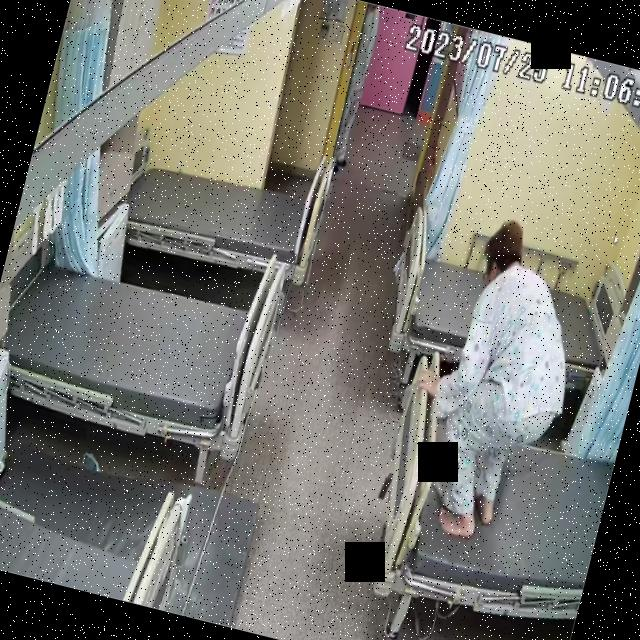bed: (356, 348, 630, 639), (0, 243, 279, 455), (377, 231, 633, 403), (118, 144, 326, 285)
danger: (382, 209, 602, 552)
patient: (381, 207, 604, 558)
